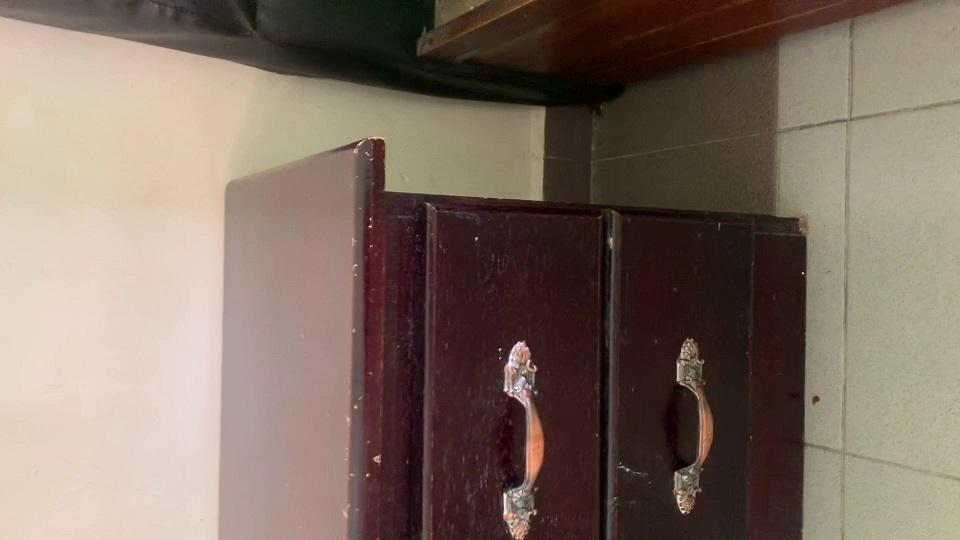cabinet_door: (424, 205, 604, 540), (608, 208, 748, 540)
handle: (496, 338, 548, 540), (669, 332, 718, 518)
